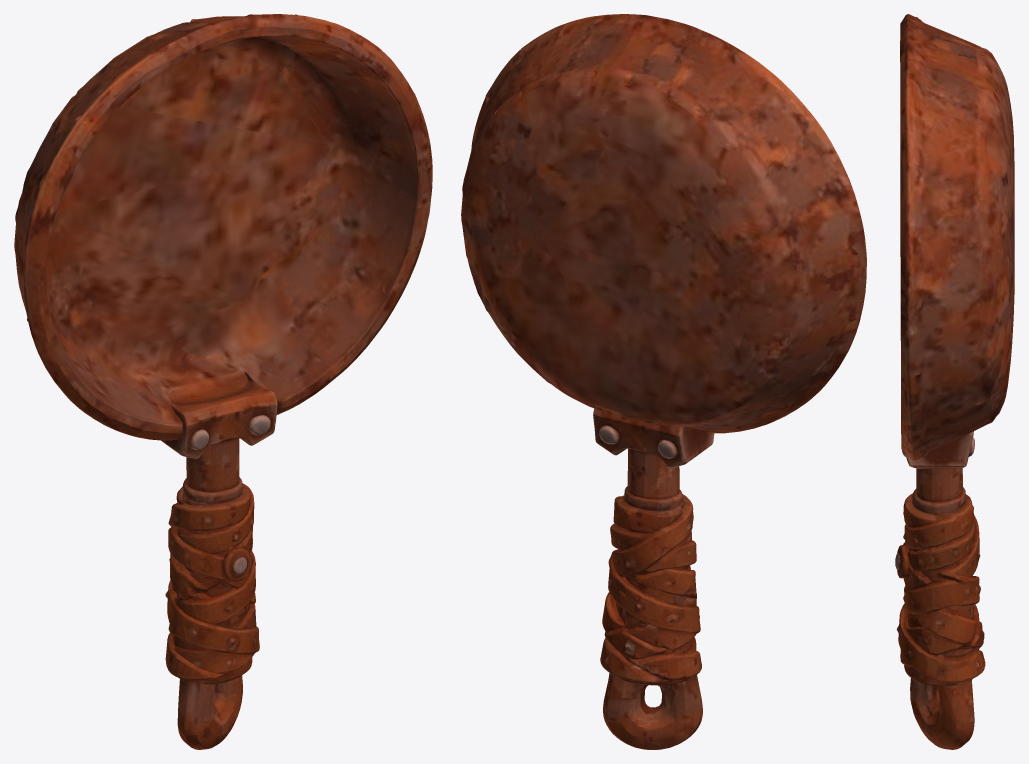
The model's file is frying-pan.glb.
The picture shows the model from 3 angles, left to right: view 1: azimuth 30°, elevation 25°; view 2: azimuth 150°, elevation 25°; view 3: azimuth 270°, elevation 25°; orthographic projection. The views are drawn at different scales.
Visible parts, largest first — view 1: Mesh_0; view 2: Mesh_0; view 3: Mesh_0.
Part boxes in pixels (box(x1,y1,x2,y2)): Mesh_0: box(14, 14, 432, 749); Mesh_0: box(461, 14, 866, 749); Mesh_0: box(895, 14, 1014, 749).
Size of the model in its own units: 1.1 by 1.9 by 0.2899.
1 material, 1 textured.
